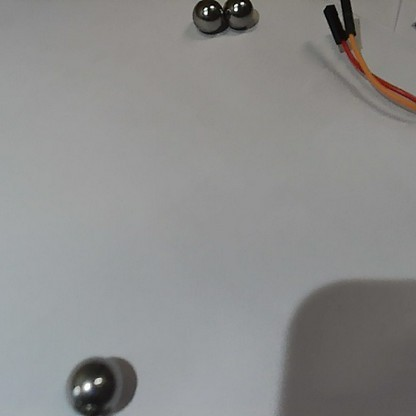ironball: (63, 353, 128, 416), (188, 0, 226, 36), (221, 0, 261, 33)
